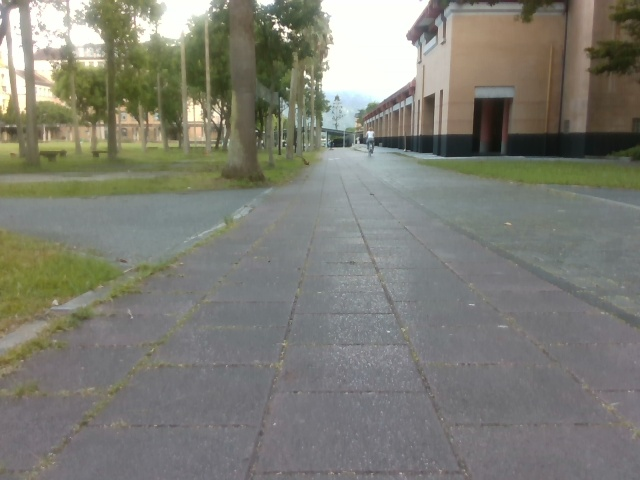grass: (0, 0, 375, 179), (0, 143, 324, 198), (0, 231, 122, 356), (400, 148, 639, 190), (584, 0, 639, 84)
road: (0, 148, 639, 479)
